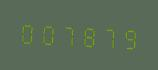eight: (78, 19, 97, 50)
nine: (118, 22, 137, 53)
seven: (58, 18, 77, 49), (98, 21, 117, 51)
zero: (17, 16, 36, 47), (37, 17, 56, 48)
